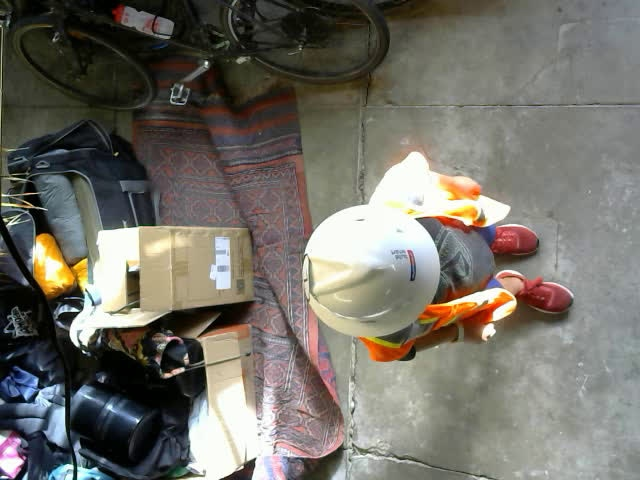one: (302, 255, 310, 302)
